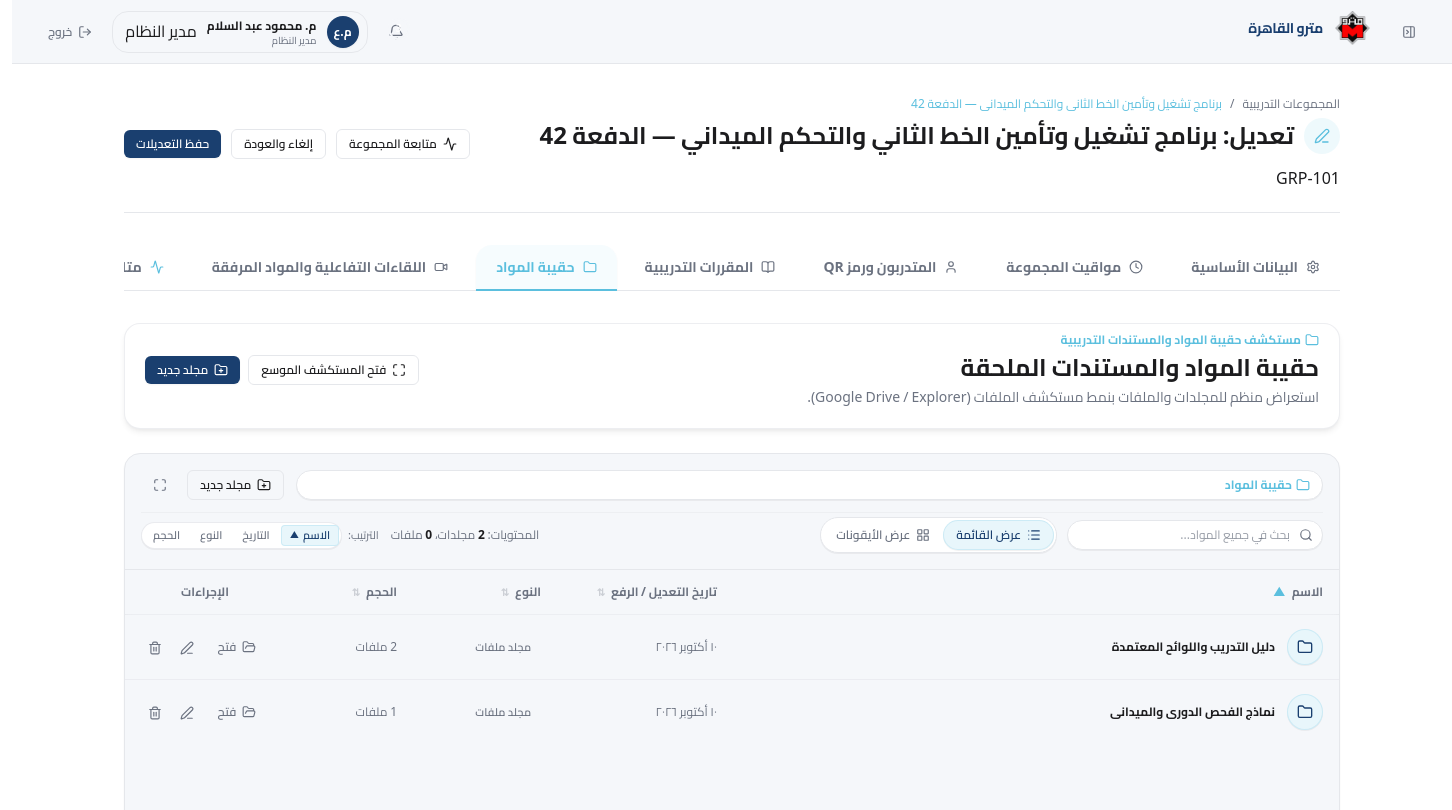
Test: Focused UI/UX Corrections After Increment 10 › 1. Explorer-Style Folder Browser & Sorting › displays root-level folders with metadata, folders before files by default, and clickable sort headers
The width and height of the screenshot is (1452, 810).
Expected: the element with test id "materials-folders-view" is shown, [125,570,1339,730]
Expected: the row with test id "folder-card-FLD-GRP-101-01" is shown, [125,615,1339,680]
// Click Name sort header to toggle to descending (desc)
Click the column heading with test id "sort-header-name" at x=1307, y=592, box [733,570,1339,615]
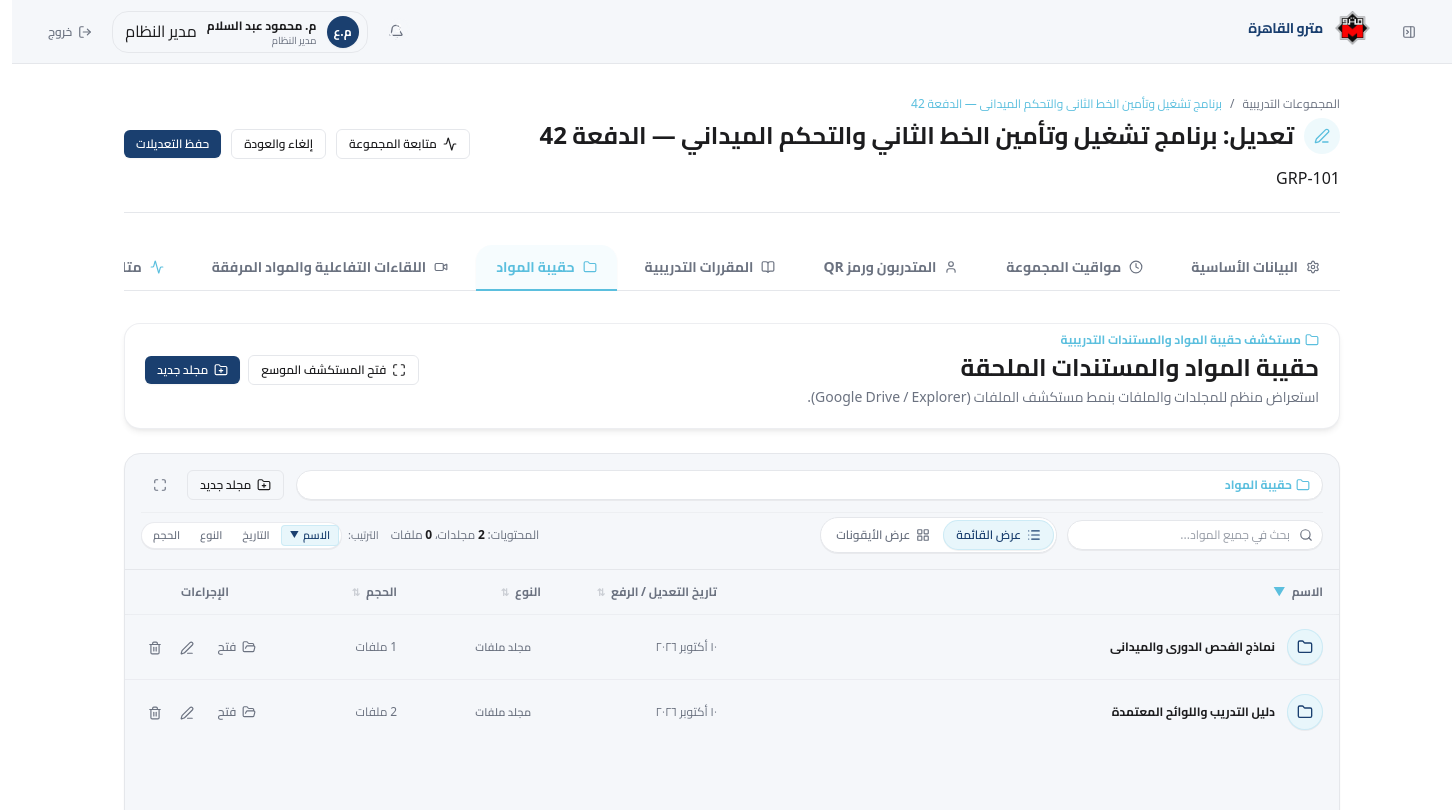
Expected: the text with test id "sort-indicator-name" reads "▼", [1273,580,1286,603]
// Click Date sort header to switch to date sorting
Click the column heading with test id "sort-header-date" at x=645, y=593, box [557,570,733,615]
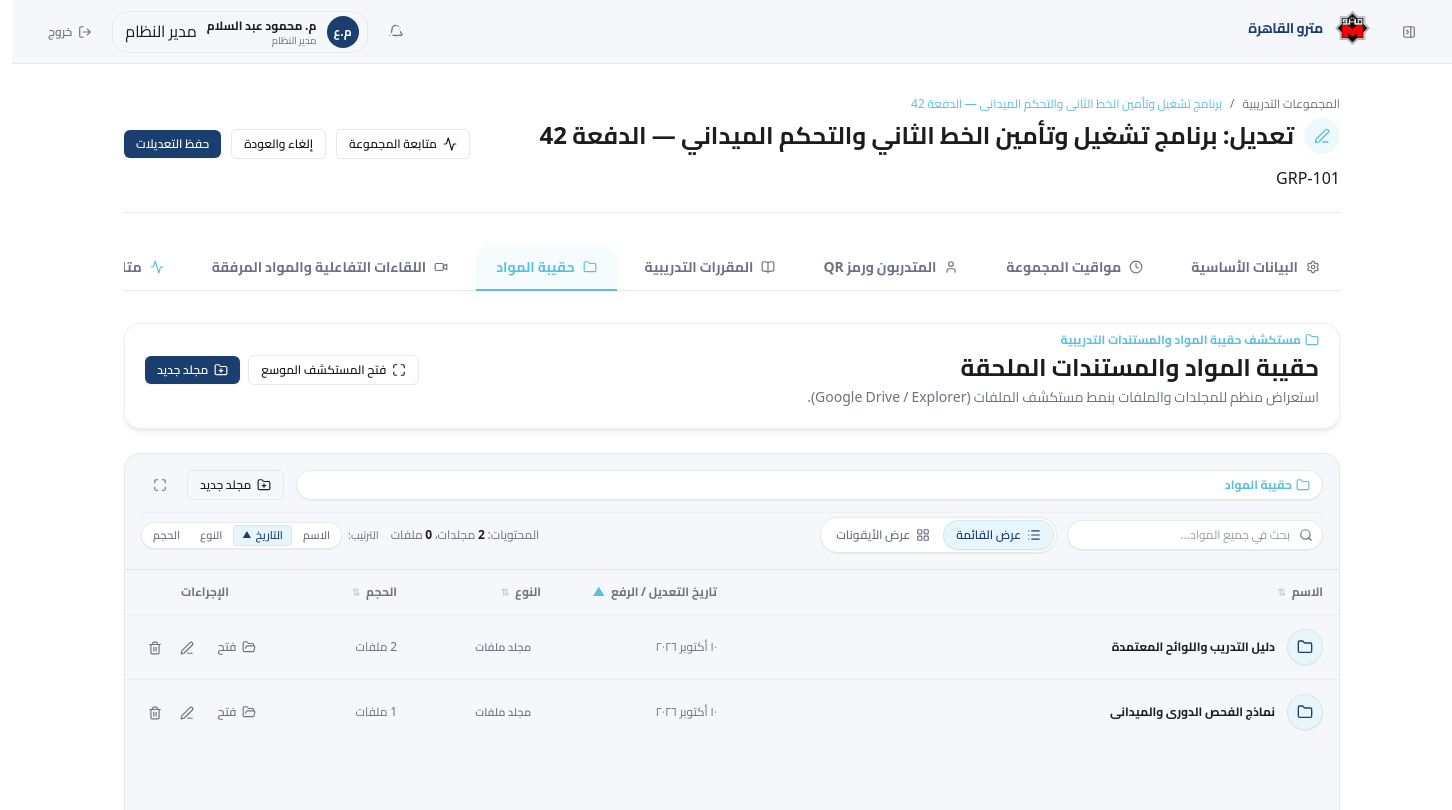
Expected: the text with test id "sort-indicator-date" reads "▲", [592,580,605,603]
